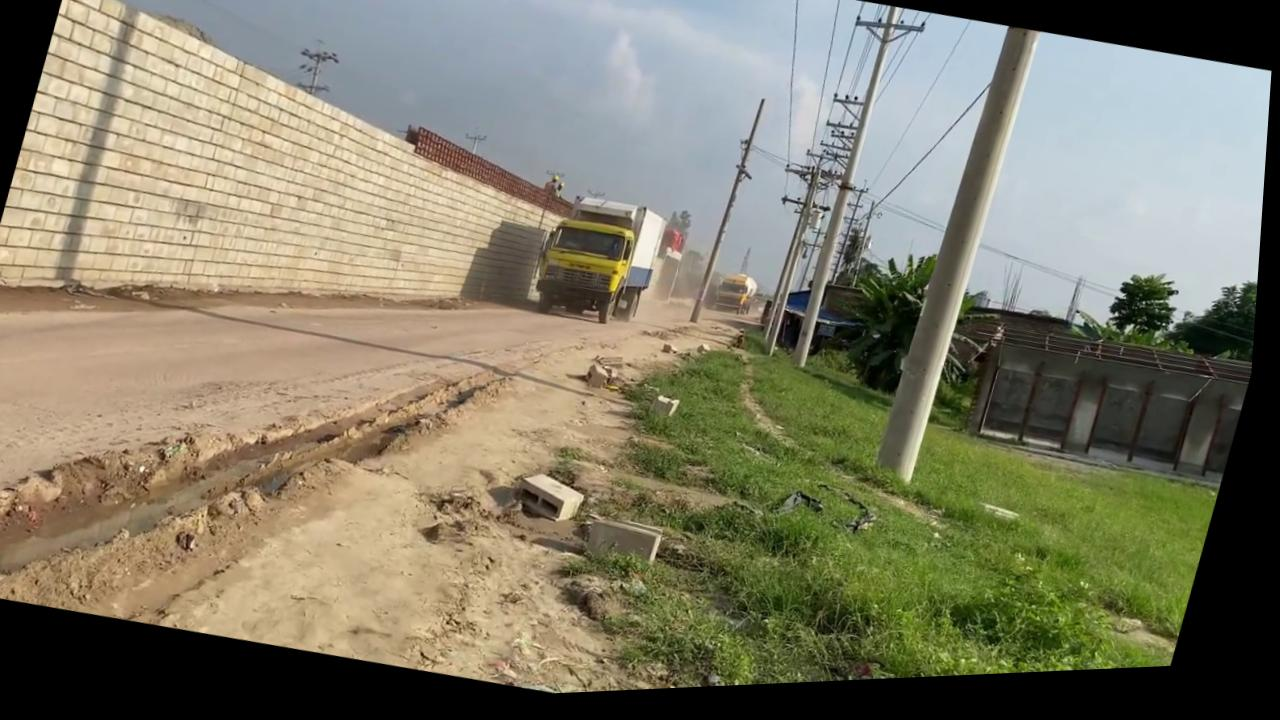Fence: (947, 315, 1261, 506)
Obstacle: (515, 471, 596, 533)
Pole: (877, 31, 1042, 495), (766, 7, 930, 383), (792, 13, 904, 378), (692, 102, 767, 331)
Rickshaw: (0, 152, 783, 720)
Traffic-sign: (826, 244, 1014, 422), (1167, 275, 1263, 378), (1104, 272, 1191, 361)
Tree: (527, 191, 675, 339)
Upstairs: (0, 0, 620, 401)
